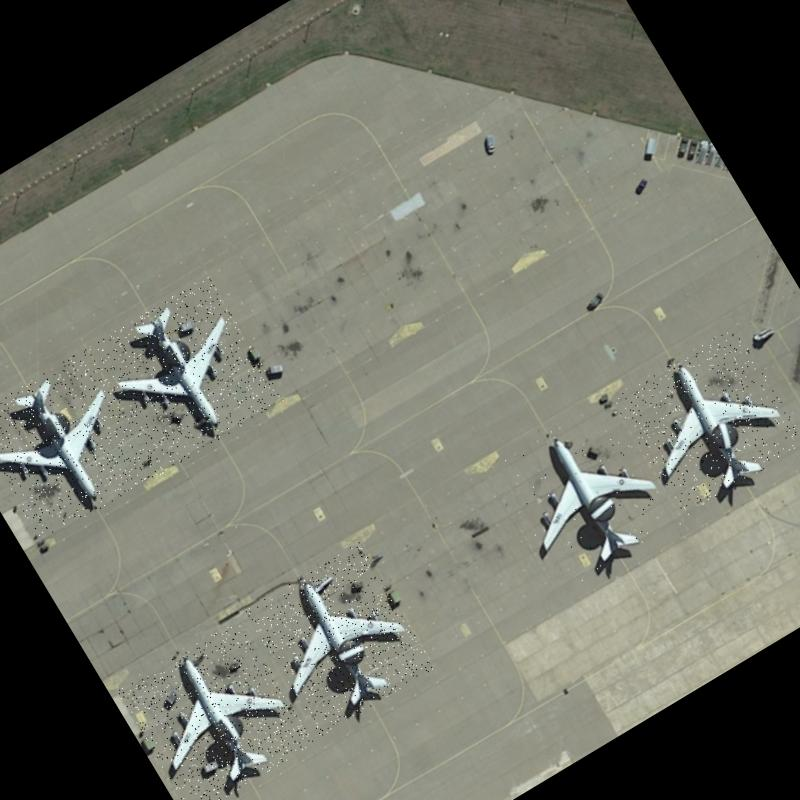A7: (85, 274, 284, 474), (489, 394, 687, 595), (244, 542, 435, 736), (116, 617, 314, 800), (612, 324, 800, 516), (0, 348, 159, 543)
